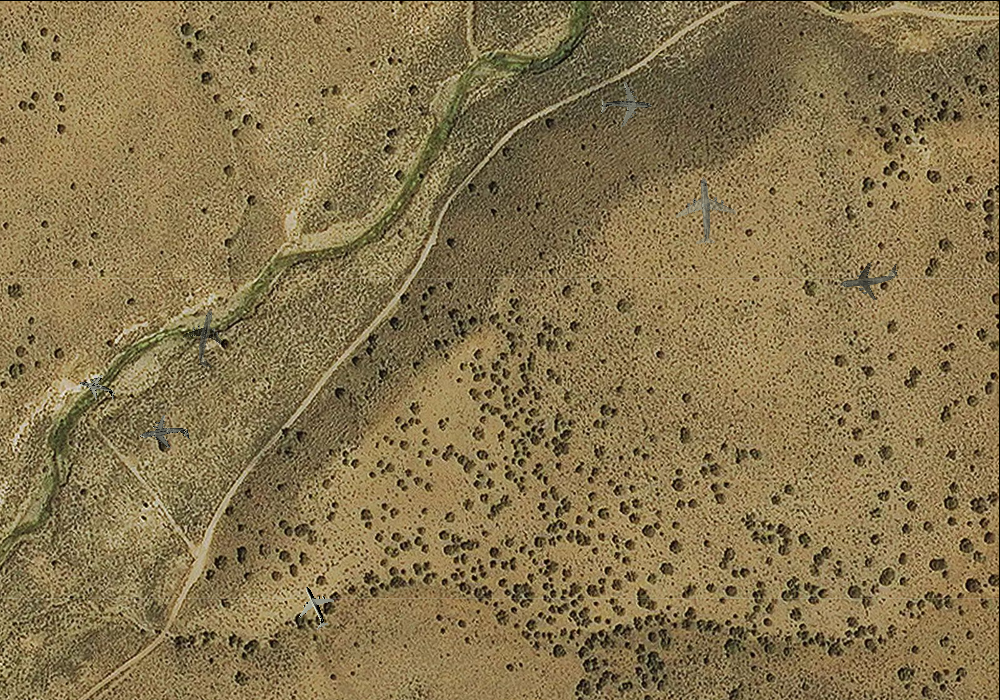plane: (670, 175, 739, 247), (174, 304, 238, 372), (837, 250, 902, 305), (286, 578, 343, 636), (136, 408, 192, 459), (599, 79, 653, 131), (74, 368, 119, 409)
